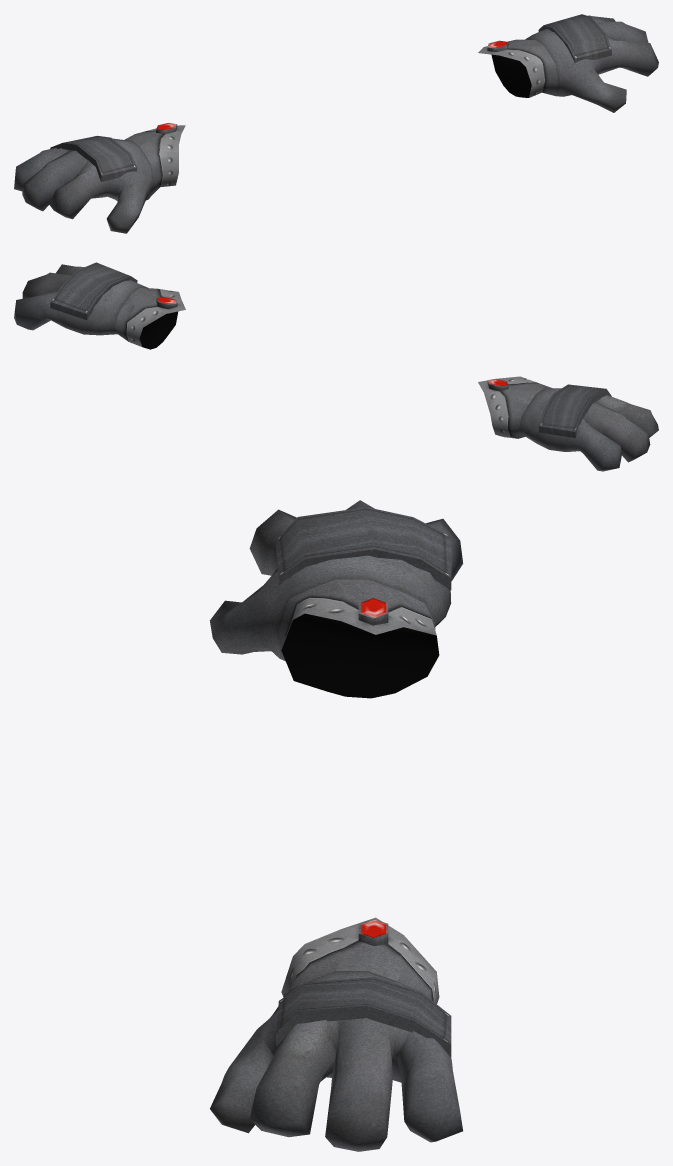
Rendered from Hands_Glove_Knight.FBX.
The picture shows the model from 3 angles, top to bottom: view 1: azimuth 30°, elevation 25°; view 2: azimuth 150°, elevation 25°; view 3: azimuth 270°, elevation 25°; orthographic projection. The views are drawn at different scales.
Parts seen in each view (by area): view 1: Hands_Glove_Knight_R, Hands_Glove_Knigth_L; view 2: Hands_Glove_Knight_R, Hands_Glove_Knigth_L; view 3: Hands_Glove_Knigth_L, Hands_Glove_Knight_R.
Boxes of the visible parts, bbox=[...] form: Hands_Glove_Knight_R: bbox=[14, 123, 185, 233]; Hands_Glove_Knigth_L: bbox=[478, 14, 658, 112]; Hands_Glove_Knight_R: bbox=[478, 376, 658, 471]; Hands_Glove_Knigth_L: bbox=[14, 262, 185, 349]; Hands_Glove_Knigth_L: bbox=[210, 917, 462, 1151]; Hands_Glove_Knight_R: bbox=[209, 500, 463, 698].
Bounding box in the file's own units: 550 × 58.8 × 97.11.
Materials: 1 (1 with a texture image).
